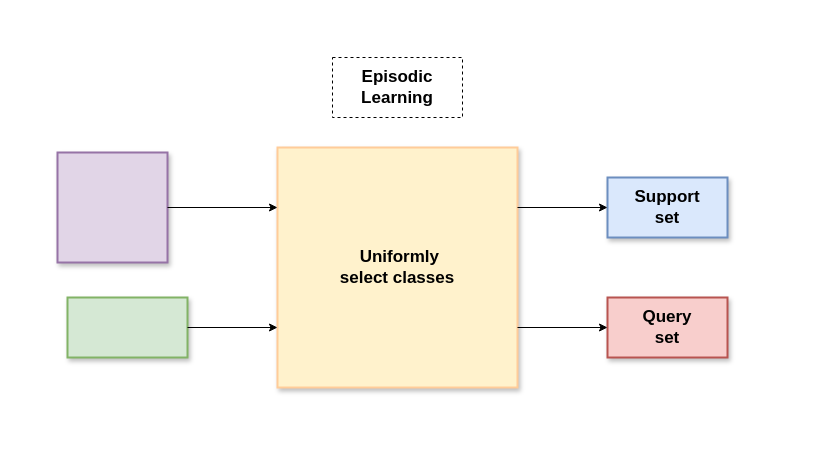
Some shapes in this 814 by 454 pixel diagram are drawn without their labels. The shapes that lost their labels are listed below. From the top down, each one's centre as x and y in pixels, then its label:
point (113, 208): Training set
point (128, 328): Testing set
